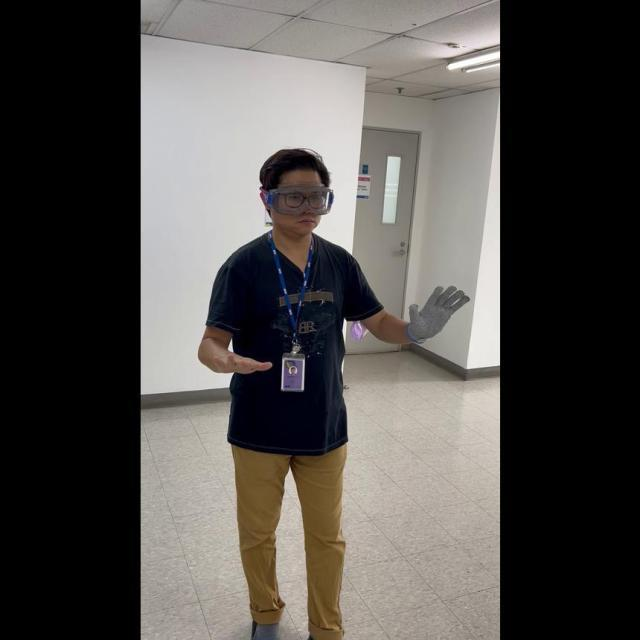bare_hand: (208, 339, 269, 377)
gloved_hand: (402, 279, 468, 343)
